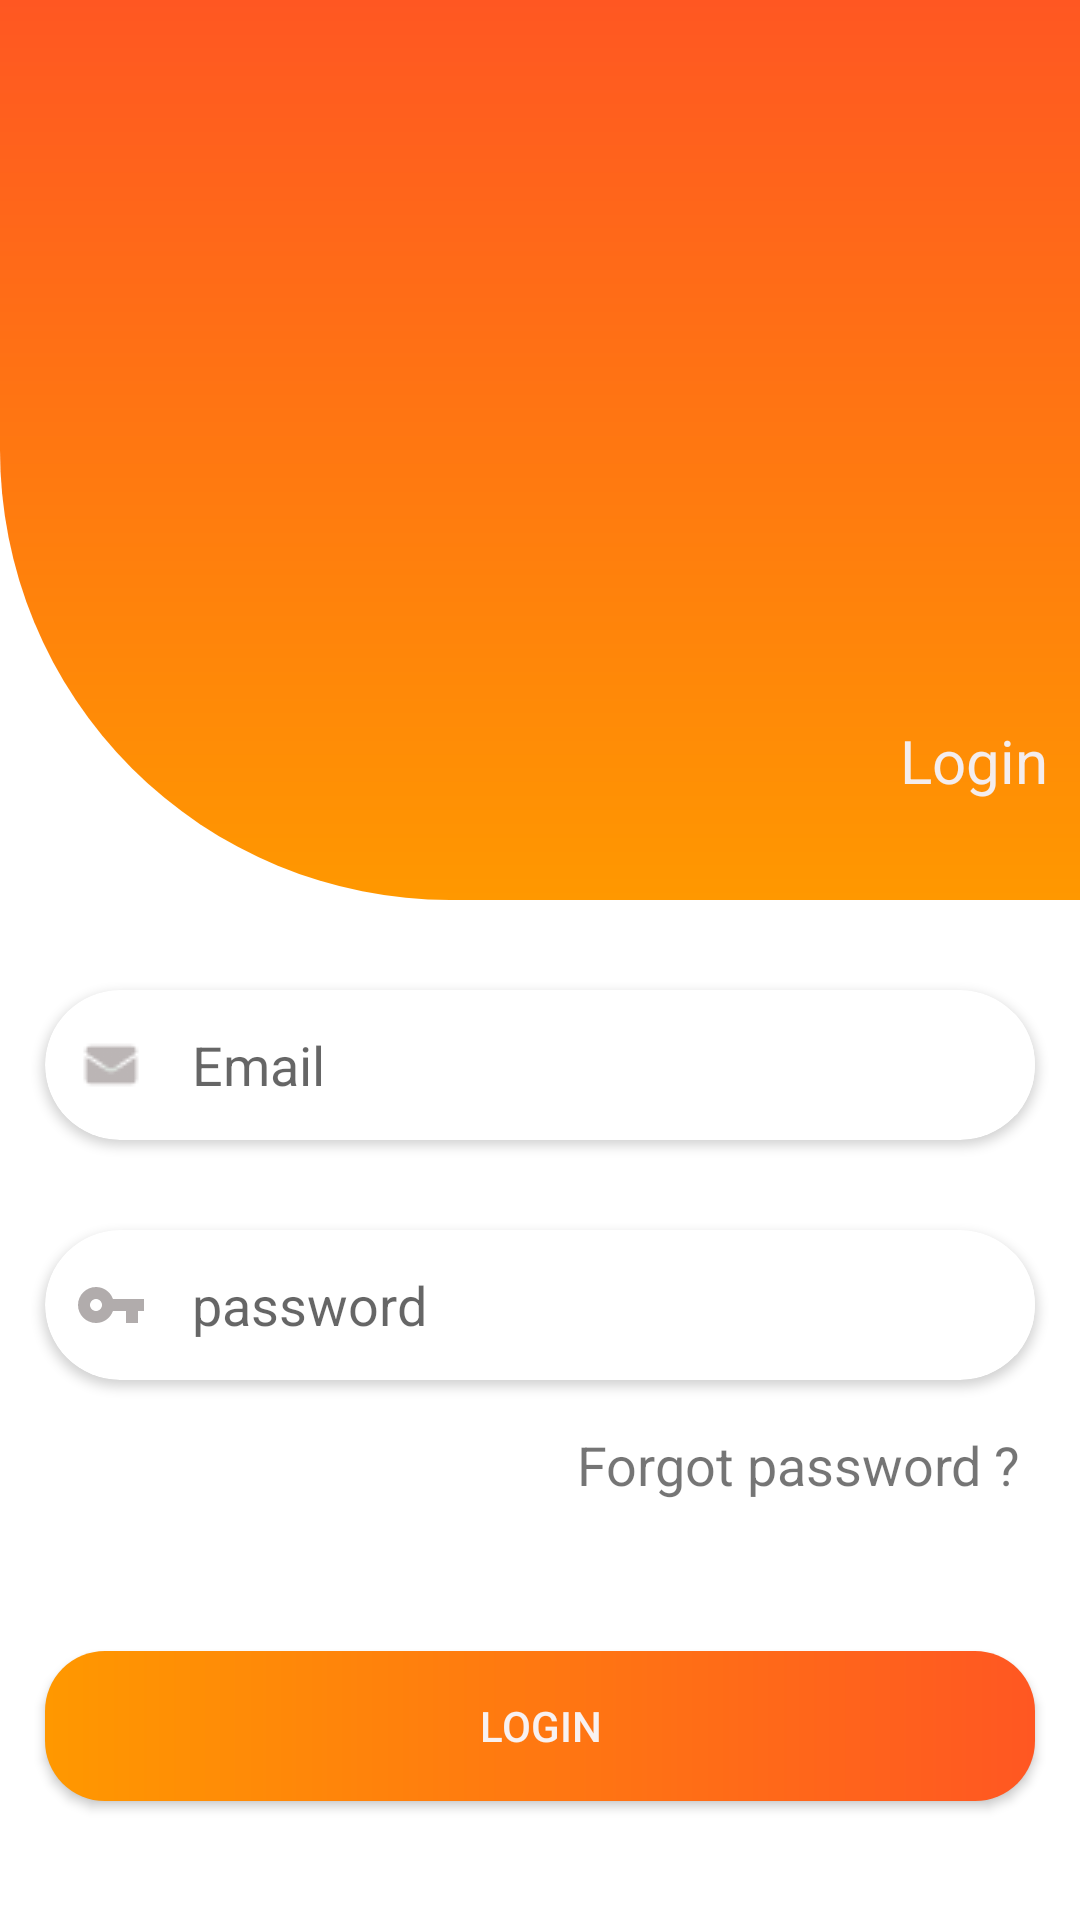

Named icons in this screenshot (1080px x 1920px) and their bounding boxes, (x1, y1, x2, y2):
vpn key: (78, 1287, 144, 1323)
